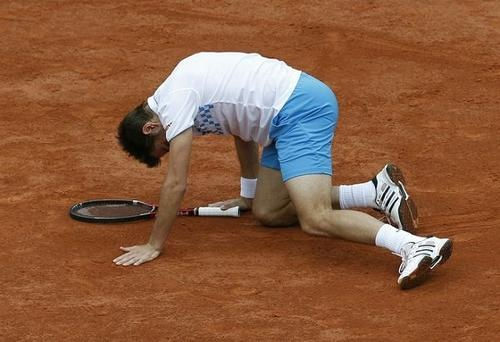falling: (114, 24, 443, 289)
